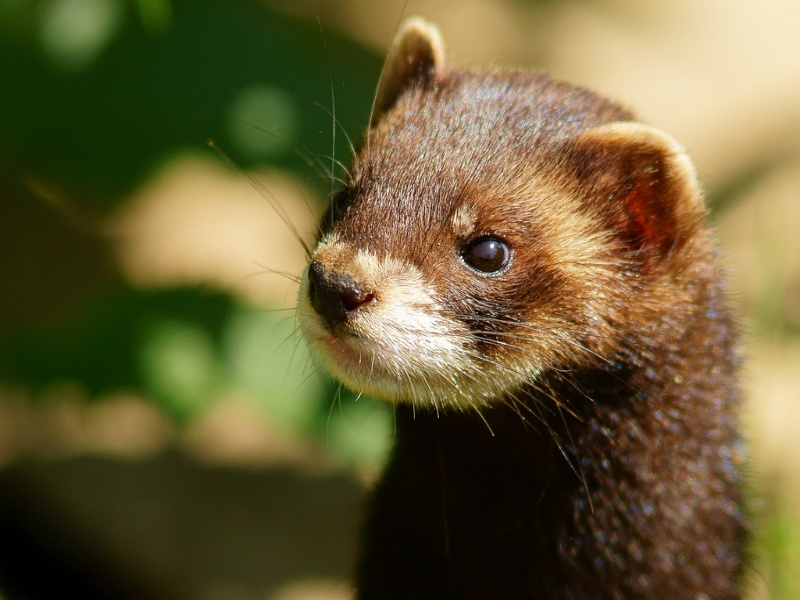minkish: (285, 16, 771, 600)
